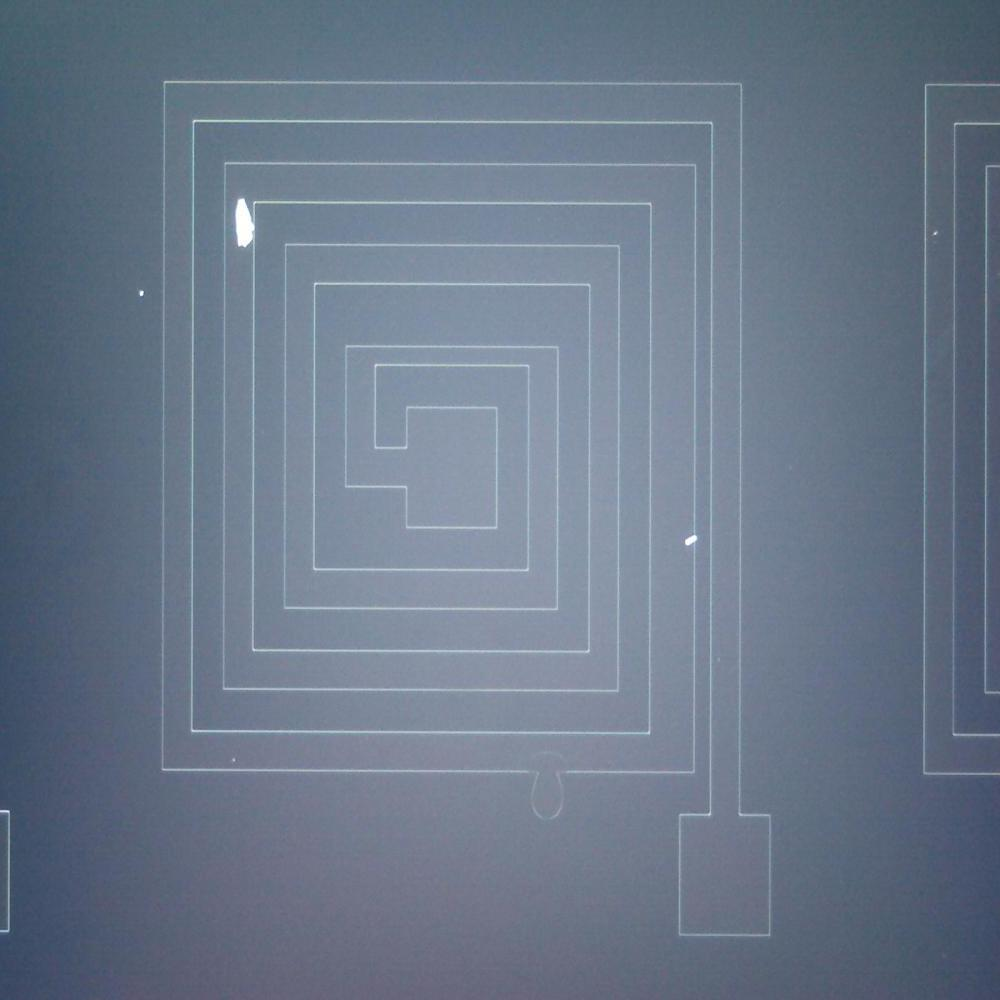budge circuit: (526, 762, 570, 824)
dot: (126, 279, 156, 308)
fat circuit: (642, 160, 703, 794)
spot: (227, 196, 256, 248), (678, 529, 702, 554)
thin circuit: (338, 334, 568, 376)
